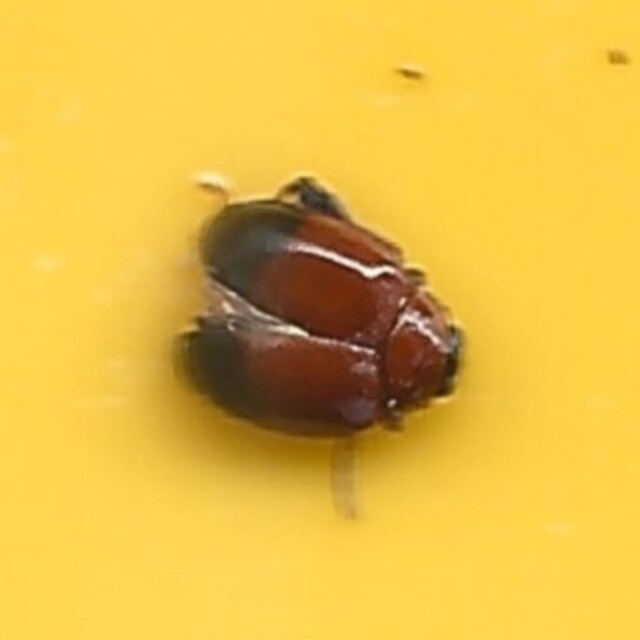Coleoptera: (177, 199, 463, 441)
